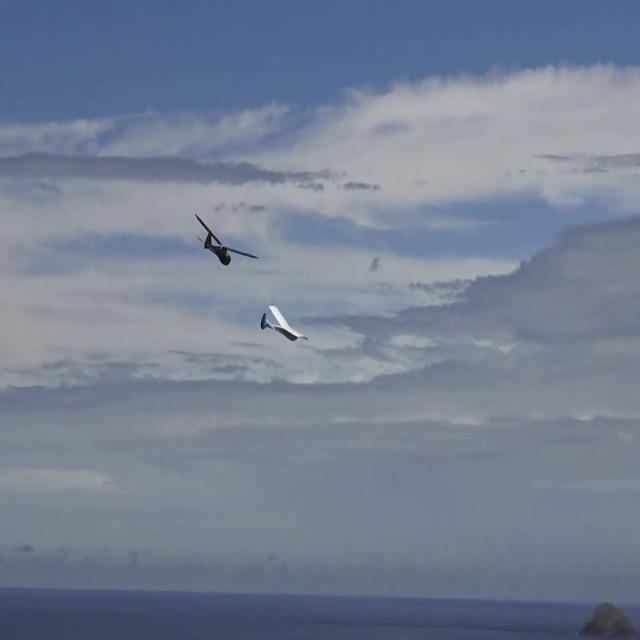iha: (260, 305, 309, 342), (225, 213, 228, 268)
